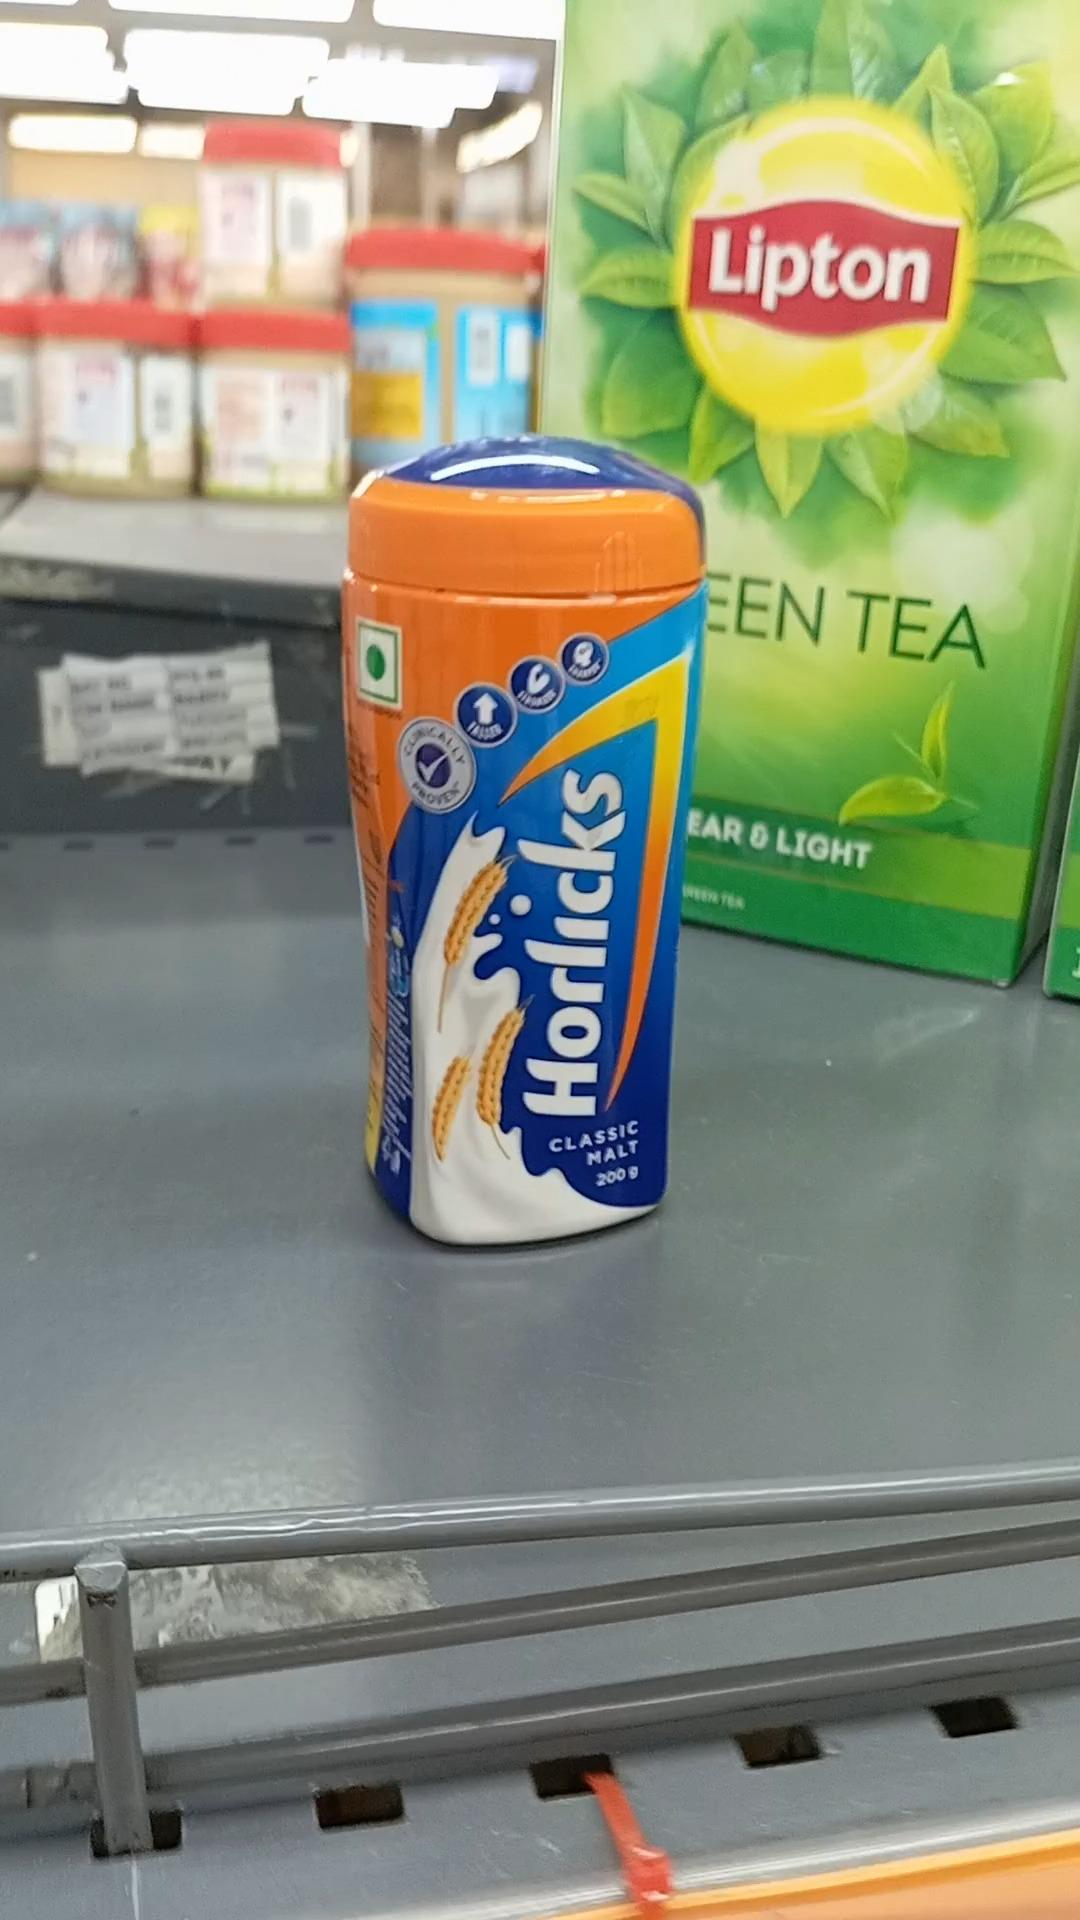HORLICK_CLASSIC_MALT_200_G_JAR: (369, 462, 683, 1245)
